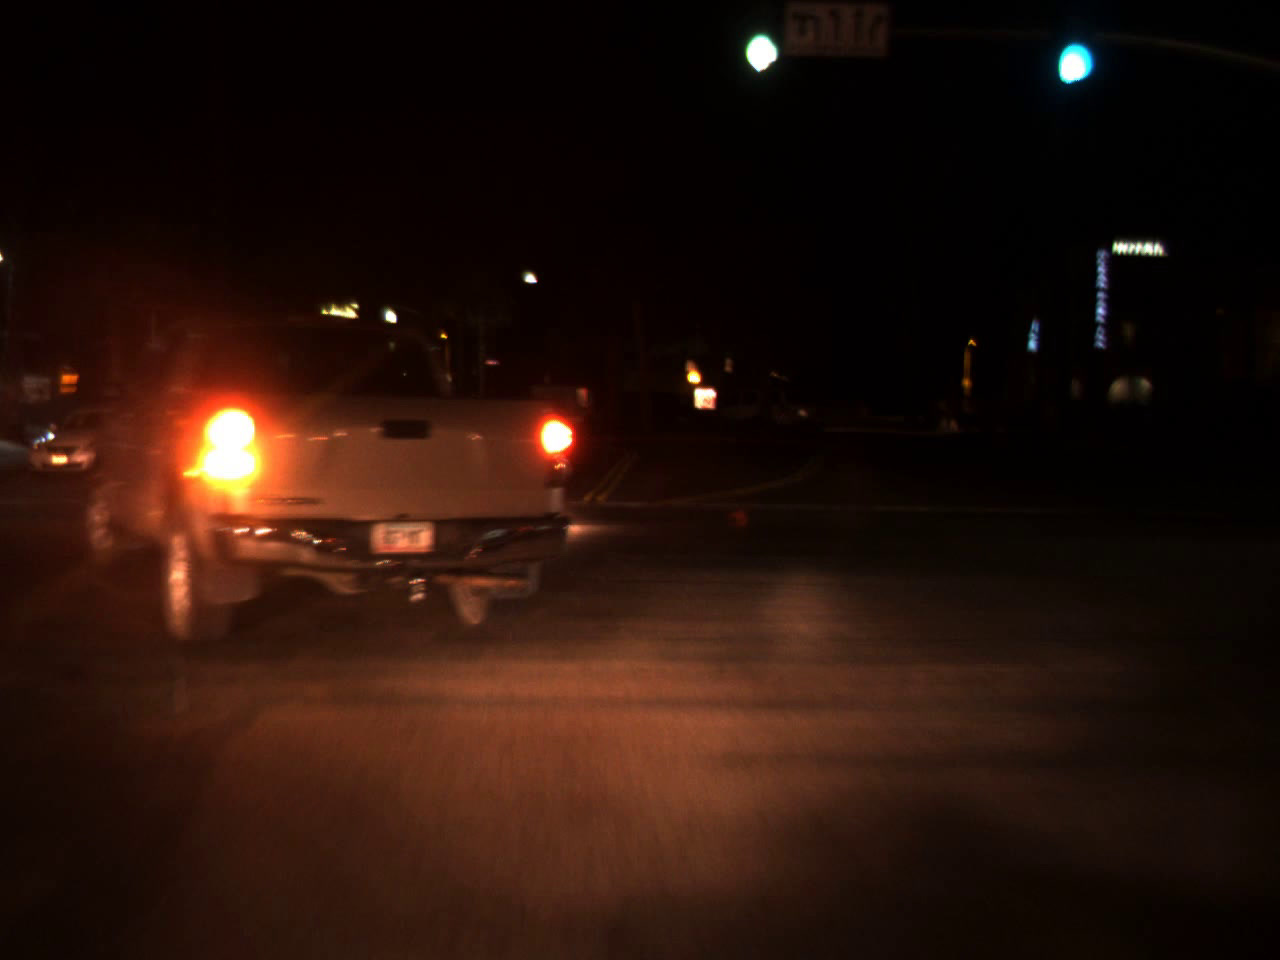go: (732, 0, 782, 76), (1050, 15, 1091, 93)
